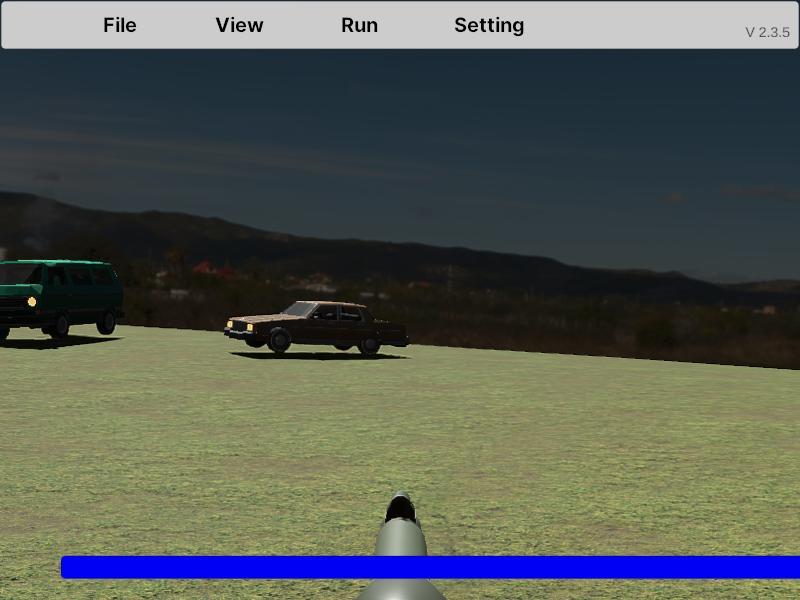car: (224, 300, 411, 357), (0, 259, 123, 345)
